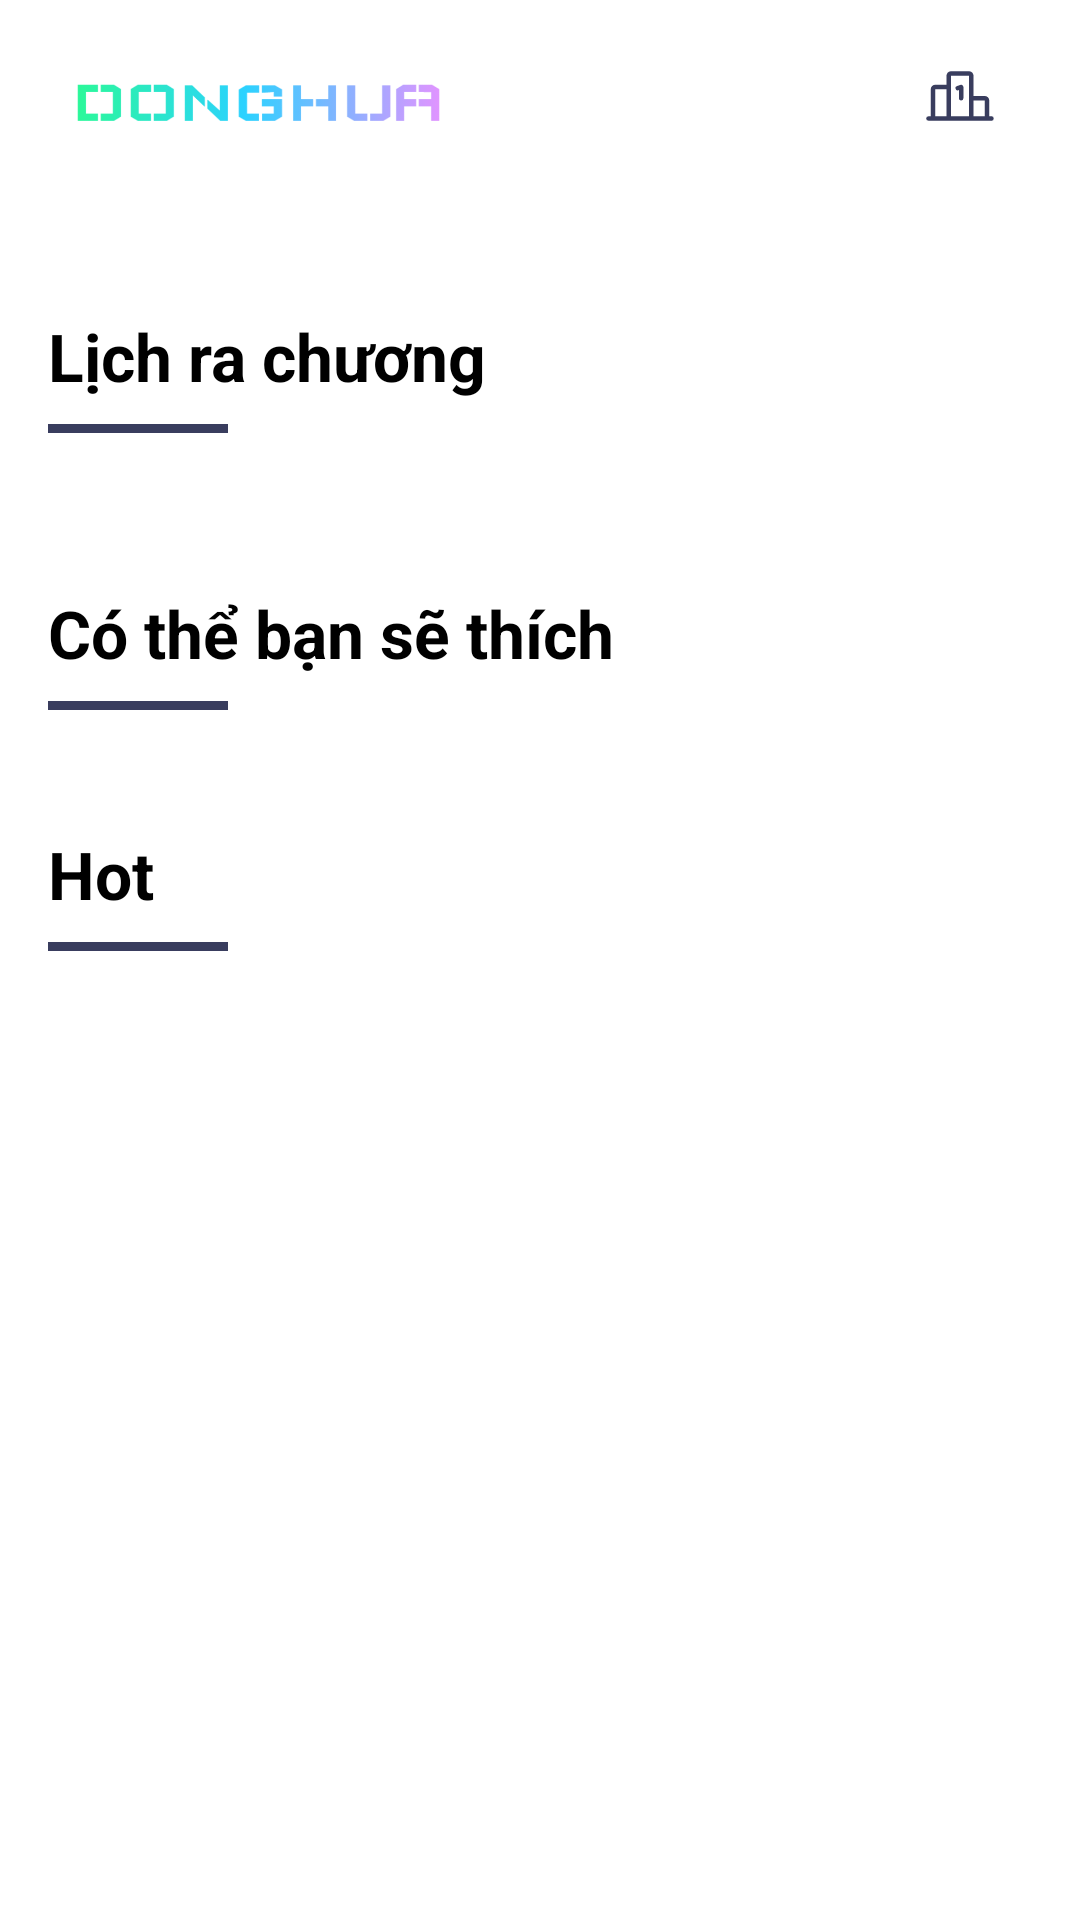

Icon bounding boxes for this 1080 × 1920 phone screenshot, format (x1,y1,x2,y2):
Ranking: (926,71,994,121)
